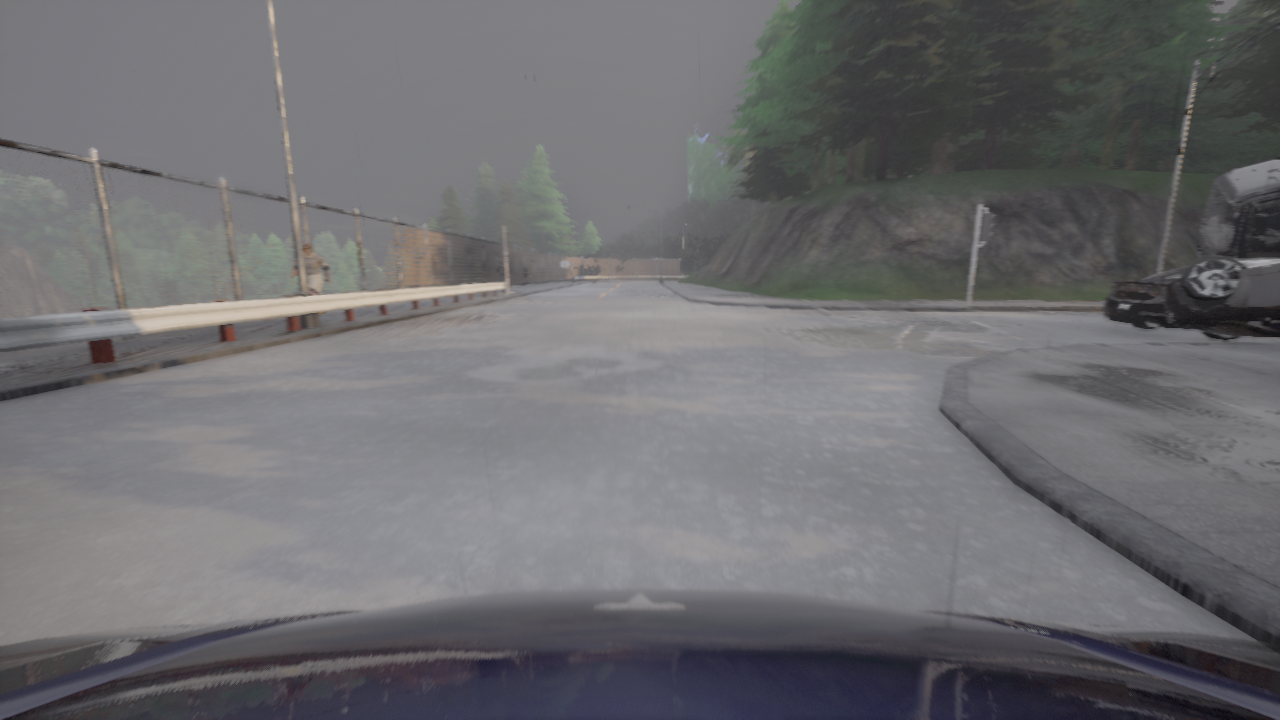cyclist: (0, 588, 1279, 719), (1103, 251, 1279, 340), (1161, 257, 1279, 337), (1197, 158, 1279, 258)
pedestrian: (292, 244, 330, 314), (496, 259, 505, 292)
